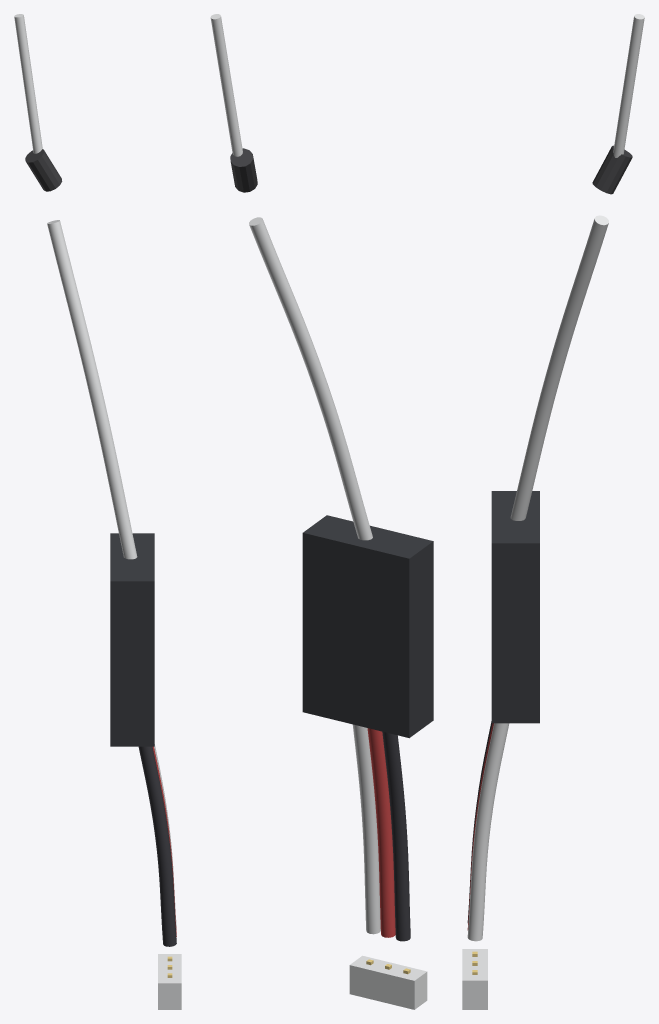
Rendered from receptor.glb.
3 views of the same model, side by side, from view 1: azimuth 90°, elevation 25°; view 2: azimuth 150°, elevation 25°; view 3: azimuth 270°, elevation 25° (orthographic). The views are drawn at different scales.
Visible parts, largest first — view 1: ReceptorRC; view 2: ReceptorRC; view 3: ReceptorRC.
Boxes of the visible parts, box(x1,y1,x2,y2) form: ReceptorRC: box(14, 14, 181, 1009); ReceptorRC: box(210, 14, 433, 1009); ReceptorRC: box(462, 14, 644, 1009).
Bounding box in the file's own units: 0.016 × 0.1054 × 0.017.
